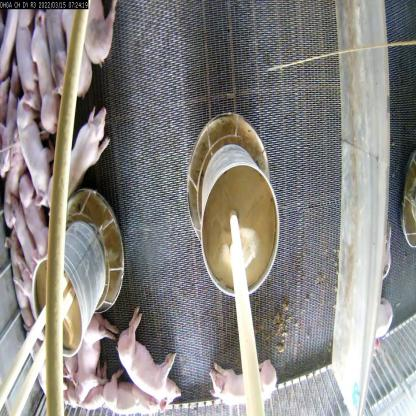Pig: (121, 313, 183, 398), (54, 100, 111, 192), (206, 356, 280, 416), (72, 307, 111, 416), (41, 3, 74, 108), (34, 5, 58, 121), (15, 95, 47, 180), (100, 373, 160, 415), (18, 176, 48, 254)
